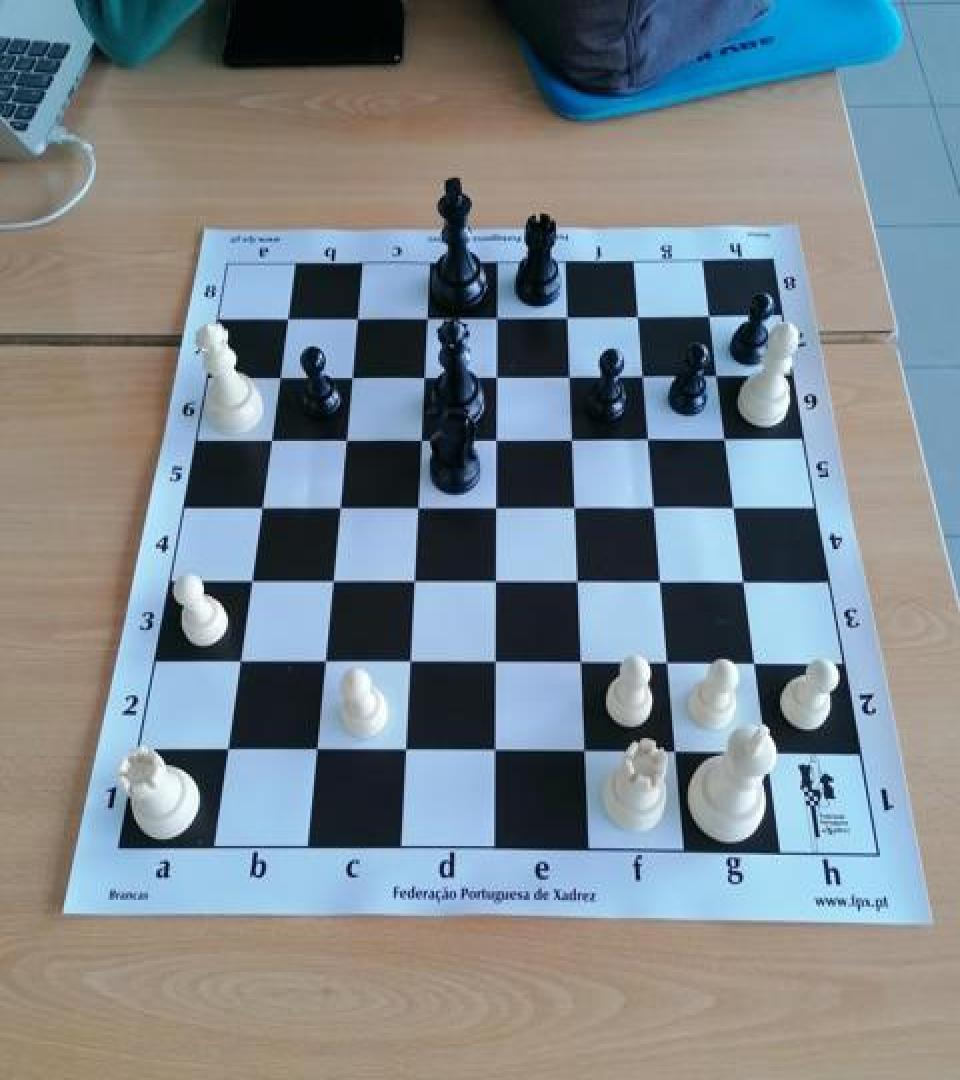xcorner: (271, 300, 303, 336), (263, 360, 295, 396), (254, 423, 286, 459), (244, 492, 276, 528), (233, 566, 265, 602), (222, 647, 254, 683), (209, 736, 241, 772), (340, 300, 372, 336), (335, 359, 367, 395), (328, 422, 360, 458), (322, 492, 354, 528), (315, 566, 347, 602), (307, 647, 339, 683), (298, 737, 330, 773), (410, 299, 442, 335), (407, 358, 439, 394), (404, 422, 436, 458), (400, 490, 432, 526), (396, 566, 428, 602), (392, 647, 424, 683), (388, 737, 420, 773), (480, 299, 512, 335), (479, 358, 511, 394), (479, 422, 511, 458), (479, 490, 511, 526), (478, 566, 510, 602), (478, 647, 510, 683), (477, 737, 509, 773), (550, 298, 582, 334), (552, 356, 584, 392), (555, 421, 587, 457), (558, 490, 590, 526), (561, 565, 593, 601), (564, 647, 596, 683), (568, 737, 600, 773), (620, 297, 652, 333), (626, 356, 658, 392), (631, 421, 663, 457), (637, 490, 669, 526), (644, 565, 676, 601), (651, 647, 683, 683), (659, 738, 691, 774), (691, 297, 723, 333), (699, 356, 731, 392), (708, 420, 740, 456), (717, 490, 749, 526), (727, 565, 759, 601), (738, 647, 770, 683), (750, 738, 782, 774)
